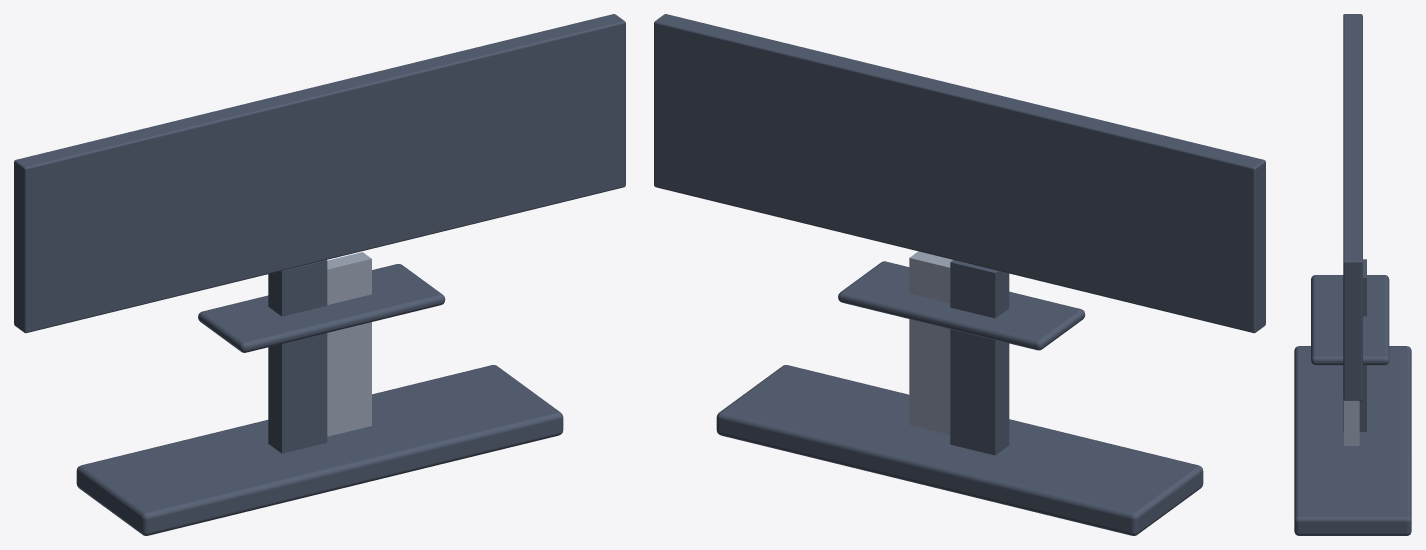
Rendered from tv_mobile.glb.
3 views of the same model, side by side, from view 1: azimuth 30°, elevation 25°; view 2: azimuth 150°, elevation 25°; view 3: azimuth 270°, elevation 25° (orthographic). The views are drawn at different scales.
Parts seen in each view (by area): view 1: tv_mobile; view 2: tv_mobile; view 3: tv_mobile.
Part boxes in pixels (bbox=[...]): tv_mobile: bbox=[14, 14, 625, 535]; tv_mobile: bbox=[654, 14, 1265, 535]; tv_mobile: bbox=[1294, 14, 1411, 535].
Bounding box in the file's own units: 1.5 × 0.897 × 0.3.
